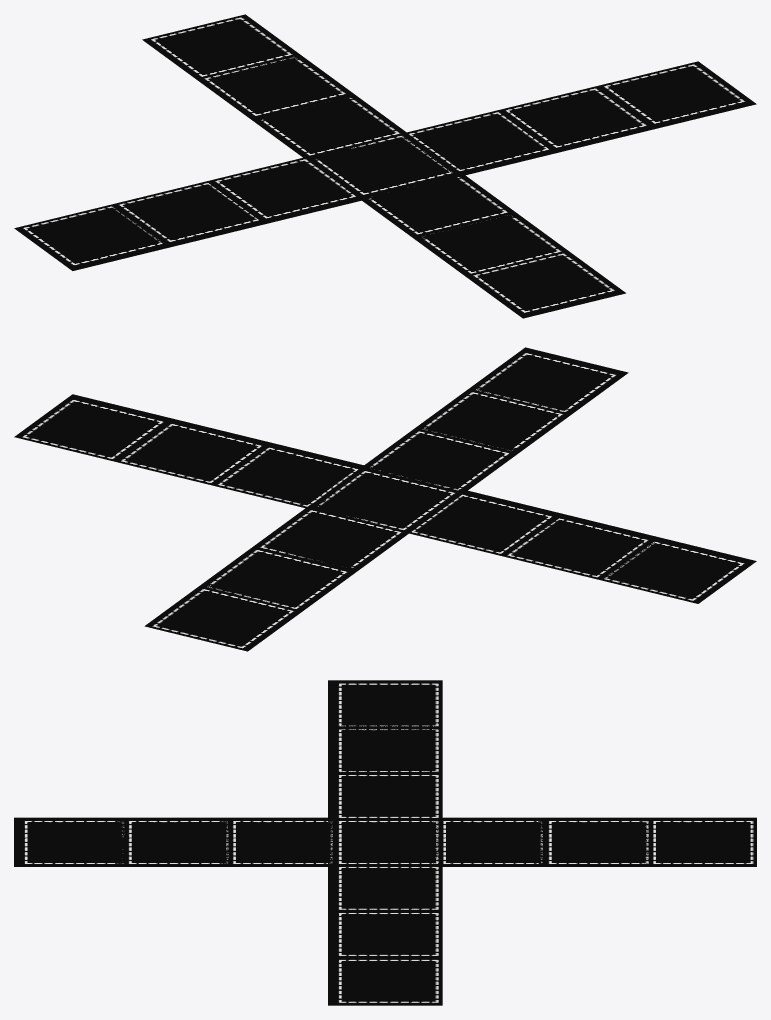
The model's file is Cubbies_Line tang hinh.fbx.
The picture shows the model from 3 angles, top to bottom: view 1: azimuth 30°, elevation 25°; view 2: azimuth 150°, elevation 25°; view 3: azimuth 270°, elevation 25°; orthographic projection. The views are drawn at different scales.
Visible parts, largest first — view 1: duong vo hinh.010; view 2: duong vo hinh.010; view 3: duong vo hinh.010.
Part boxes in pixels (box(x1,y1,x2,y2)): duong vo hinh.010: box(14, 14, 756, 318); duong vo hinh.010: box(14, 347, 756, 651); duong vo hinh.010: box(14, 680, 756, 1005).
Bounding box in the file's own units: 13.12 × 12.66 × 0.
Materials: 1 (1 with a texture image).
